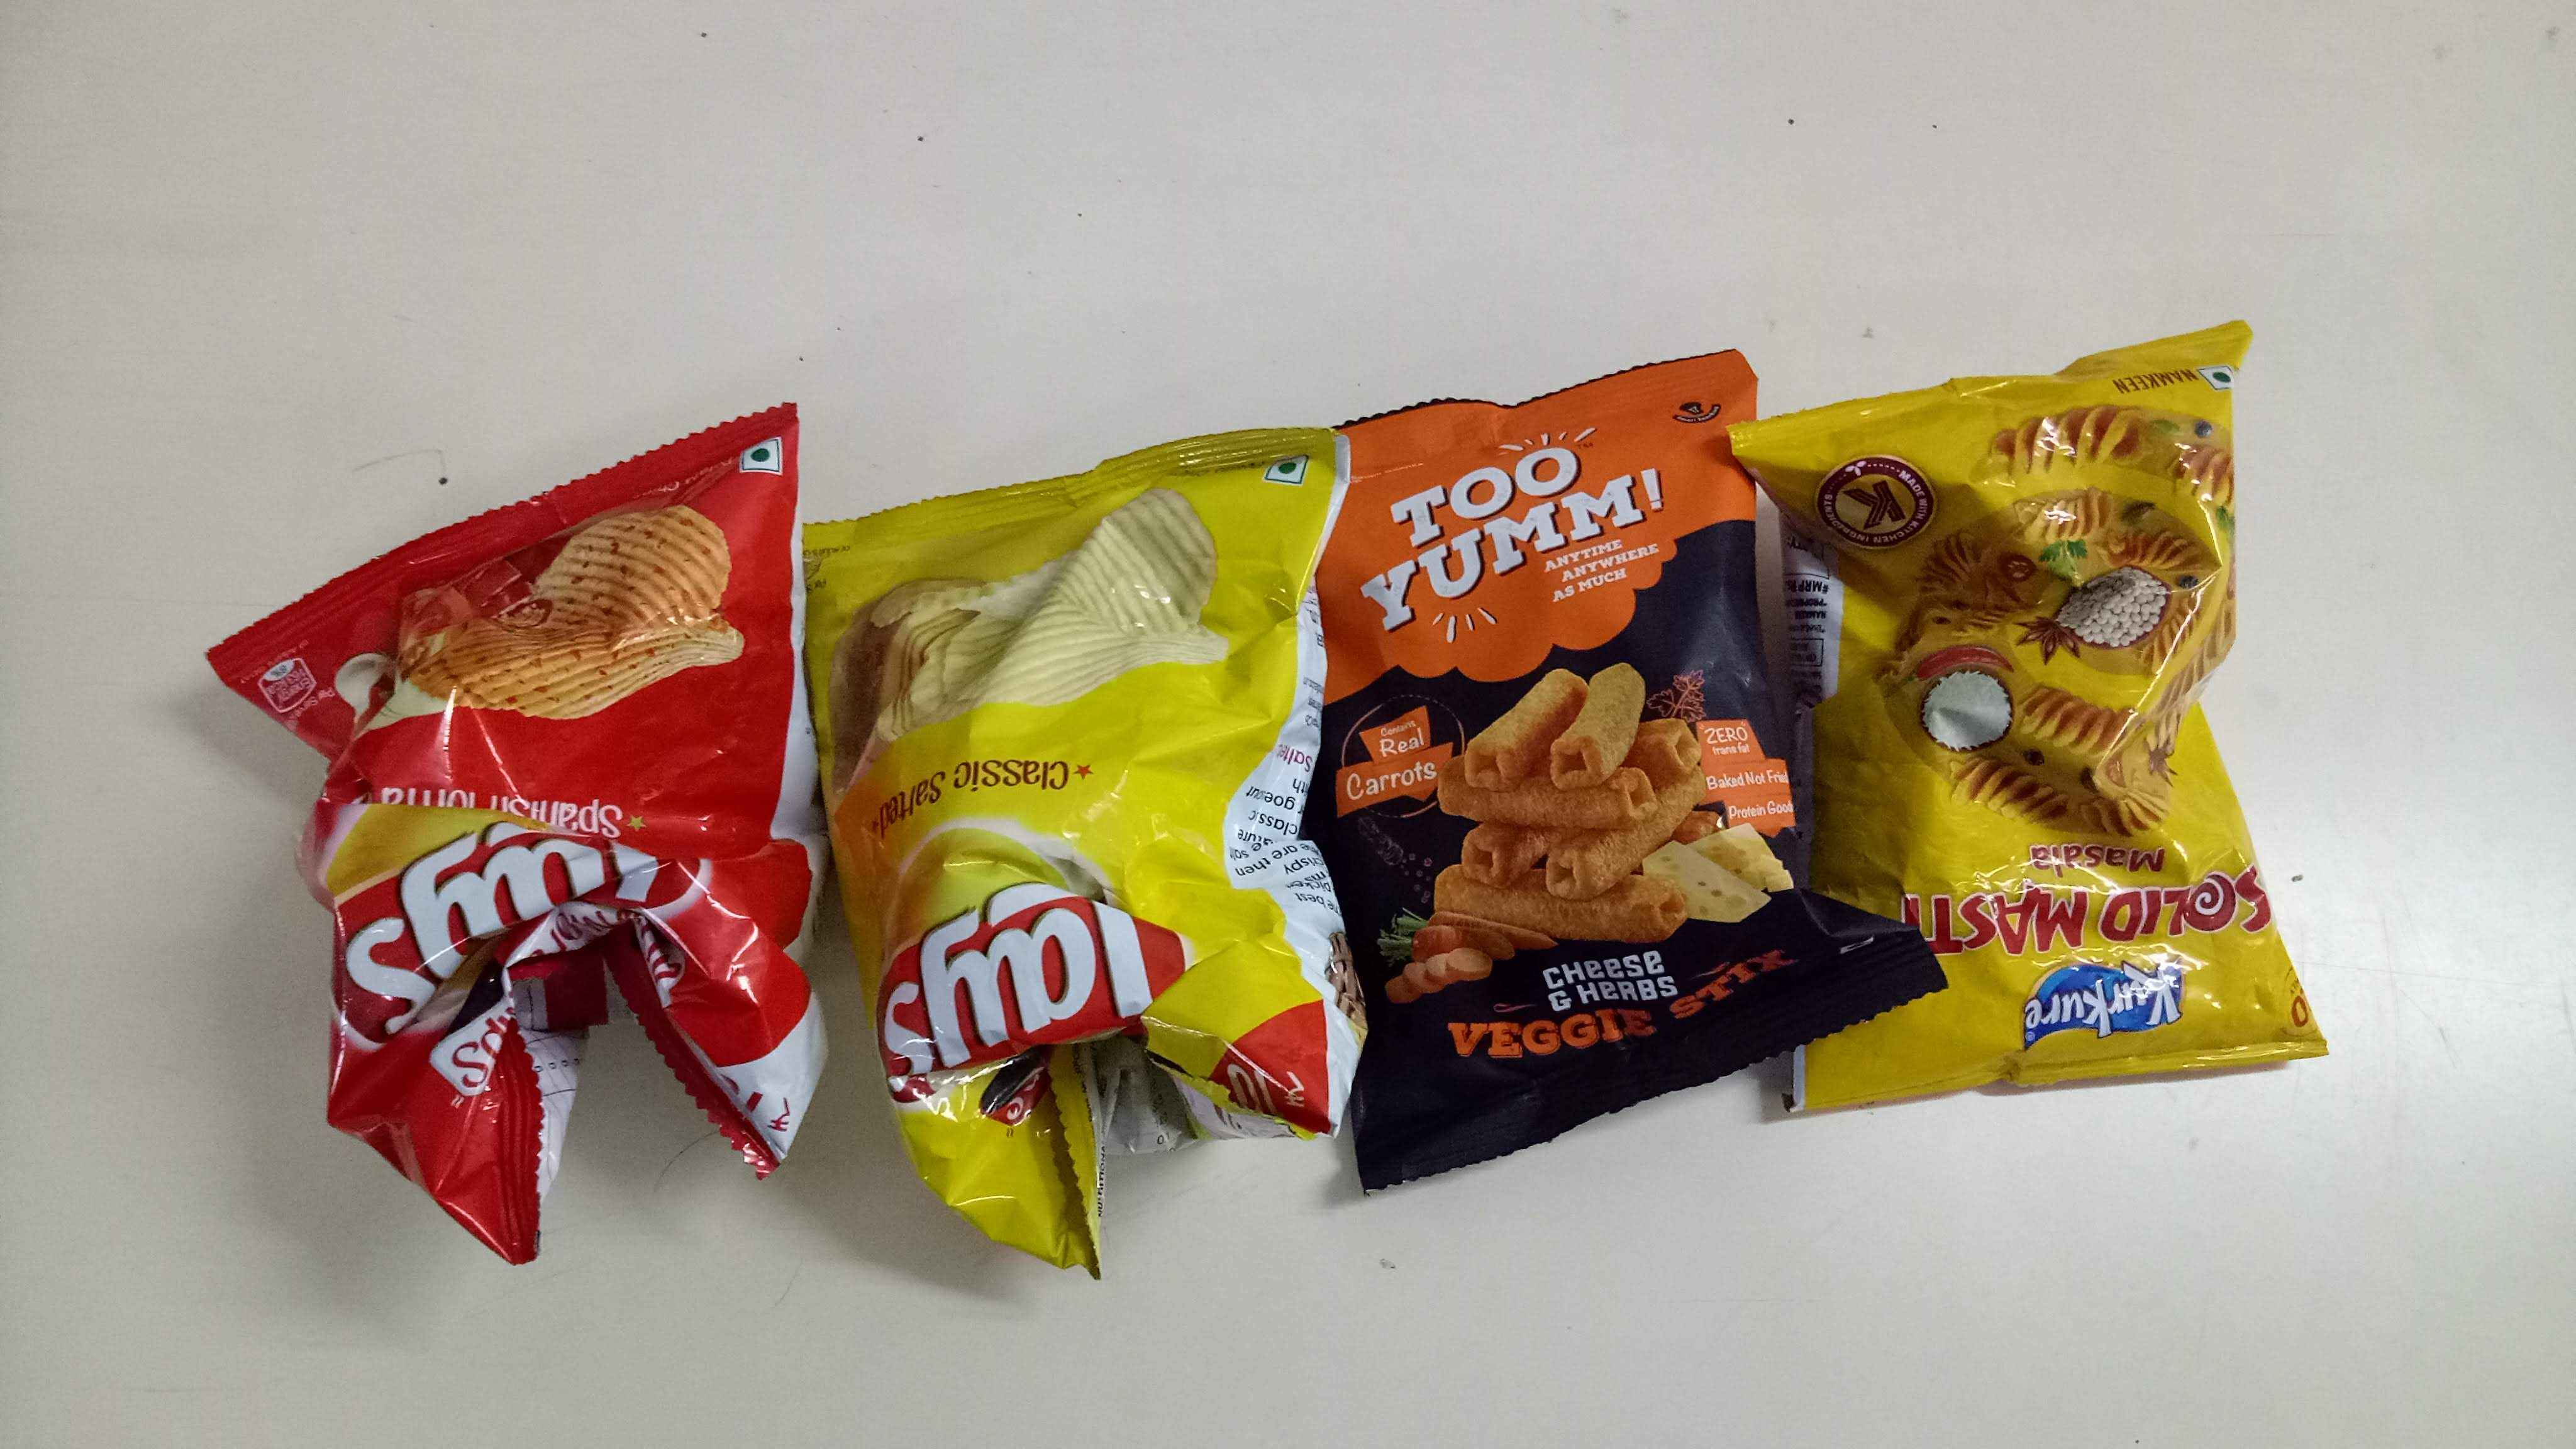Lays: (324, 801, 718, 1063), (883, 833, 1210, 1122)
kurkure: (2001, 957, 2219, 1049)
tooyumm: (1361, 421, 1674, 642)
